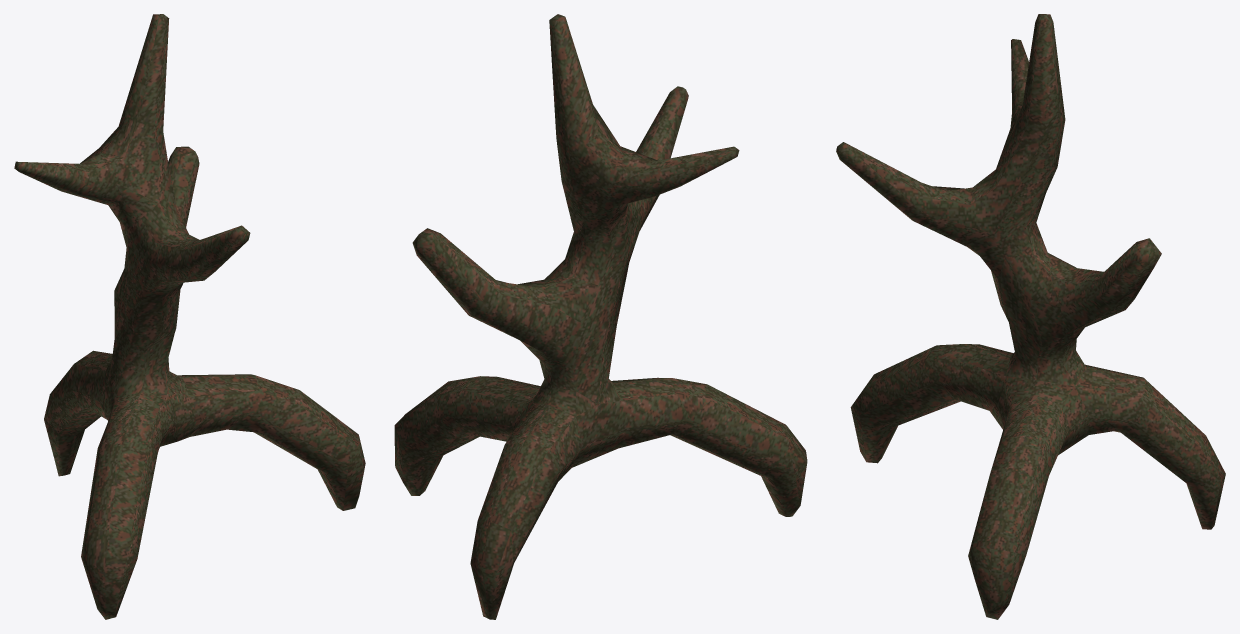
Rendered from SwampFence2.fbx.
3 renders of one model, left to right at view 1: azimuth 30°, elevation 25°; view 2: azimuth 150°, elevation 25°; view 3: azimuth 270°, elevation 25°, orthographic. The views are drawn at different scales.
Visible parts, largest first — view 1: SwampFence2; view 2: SwampFence2; view 3: SwampFence2.
Part boxes in pixels (box(x1,y1,x2,y2)): SwampFence2: box(14, 14, 365, 619); SwampFence2: box(394, 14, 807, 619); SwampFence2: box(836, 14, 1225, 619).
Size of the model in its own units: 1025 by 1508 by 1015.
1 material, 1 textured.
